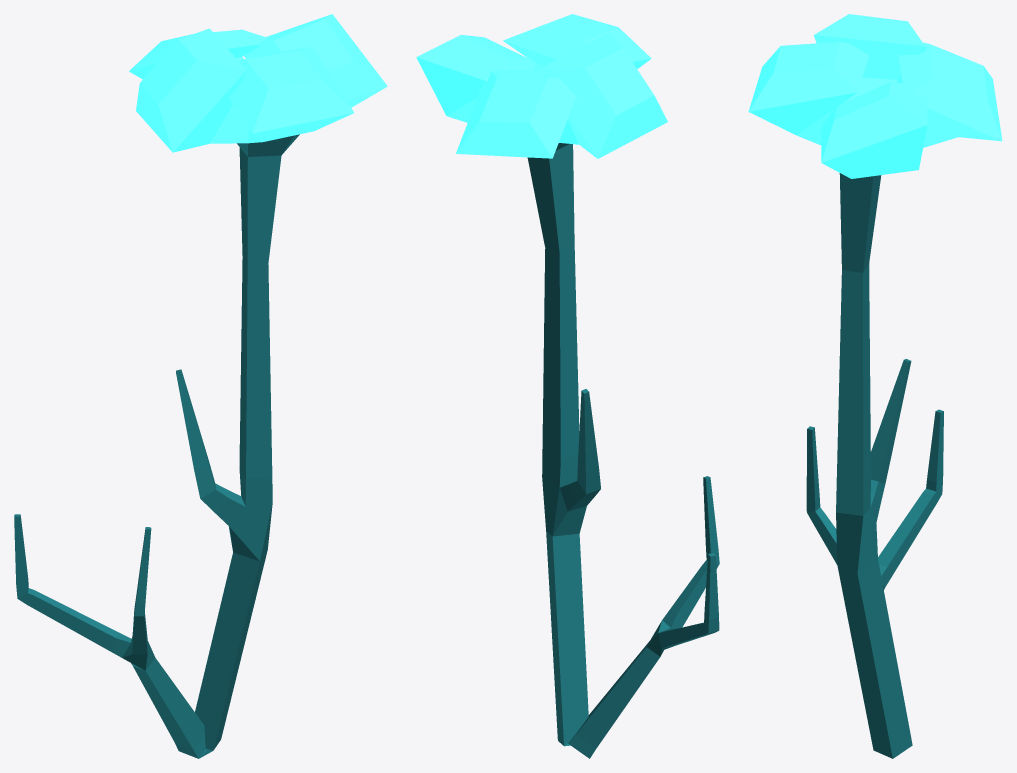
Rendered from GlowFlower2.fbx.
The picture shows the model from 3 angles, left to right: view 1: azimuth 30°, elevation 25°; view 2: azimuth 150°, elevation 25°; view 3: azimuth 270°, elevation 25°; orthographic projection. The views are drawn at different scales.
Visible parts, largest first — view 1: Cube.001; view 2: Cube.001; view 3: Cube.001.
Boxes of the visible parts, x1,y1,x2,y2 form: Cube.001: (14,14,387,758); Cube.001: (416,14,719,758); Cube.001: (748,14,1002,758).
Bounding box in the file's own units: 165 × 354 × 112.
